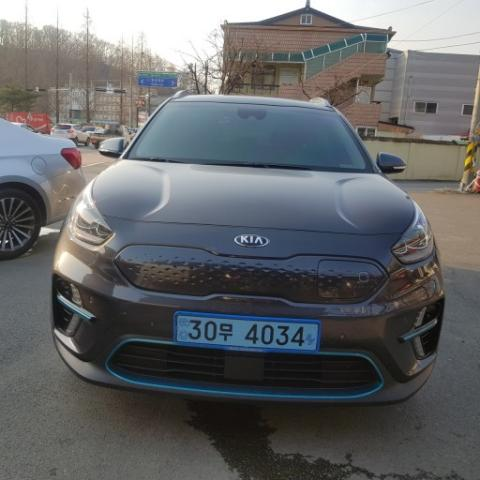LP: (169, 304, 328, 361)
